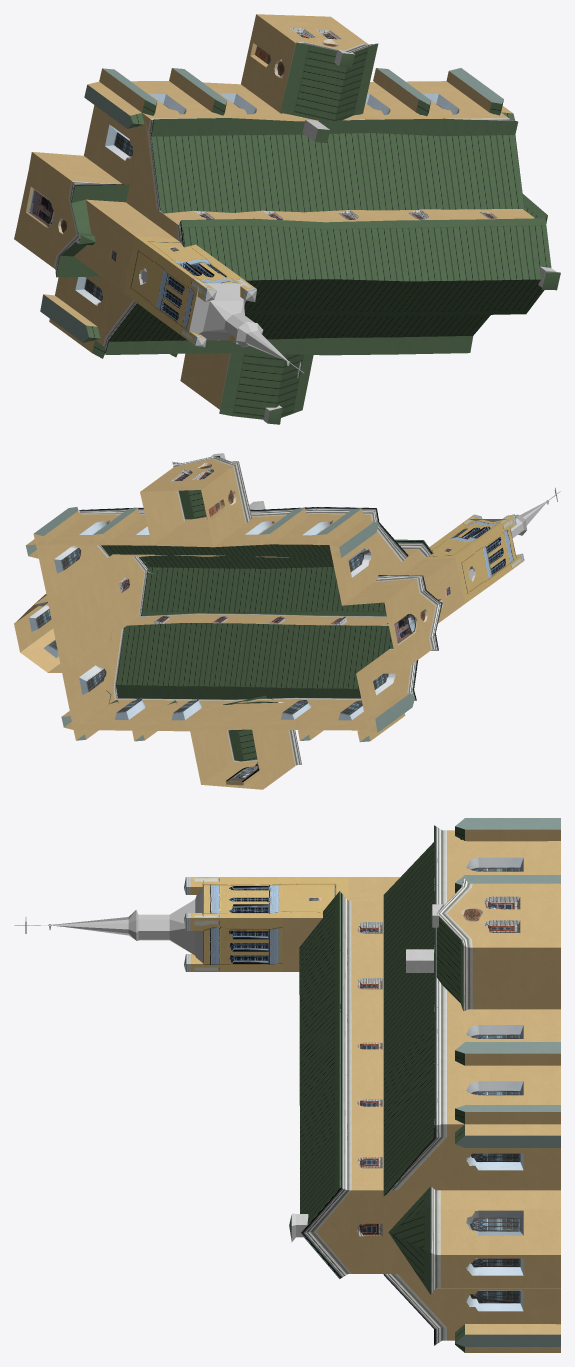
File: Vabaduse_valjak_1_IS-origo.obj
The picture shows the model from 3 angles, top to bottom: view 1: azimuth 30°, elevation 25°; view 2: azimuth 150°, elevation 25°; view 3: azimuth 270°, elevation 25°; orthographic projection. The views are drawn at different scales.
Visible parts, largest first — view 1: Box01; view 2: Box01; view 3: Box01.
Boxes of the visible parts, x1,y1,x2,y2 form: Box01: [14, 14, 560, 424]; Box01: [14, 453, 560, 789]; Box01: [14, 818, 560, 1352].
Size of the model in its own units: 60.5 by 44.5 by 53.36.
